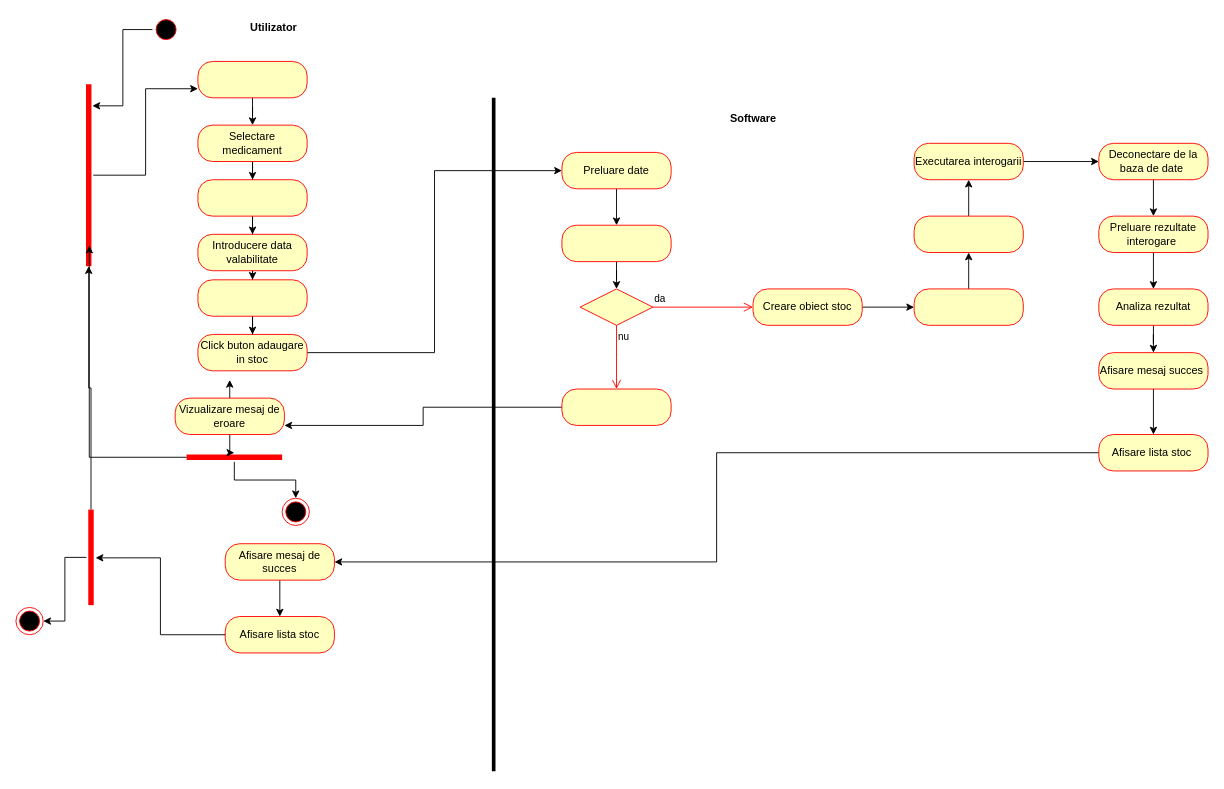
Image size: 1224x789. Some labels were removed from this diagram. Here are the shapes that lost their labels. From the top down, the box of each, then its label:
(197, 61, 307, 98): Selectare farmacie
(197, 179, 307, 216): Introducere cantitate
(561, 224, 671, 262): Validare date
(913, 215, 1023, 253): Conecatre la baza de date
(197, 279, 307, 316): Introducere disponibilitate
(913, 288, 1023, 325): Creare interogare
(561, 388, 671, 425): Afiseaza mesaj de eroare
